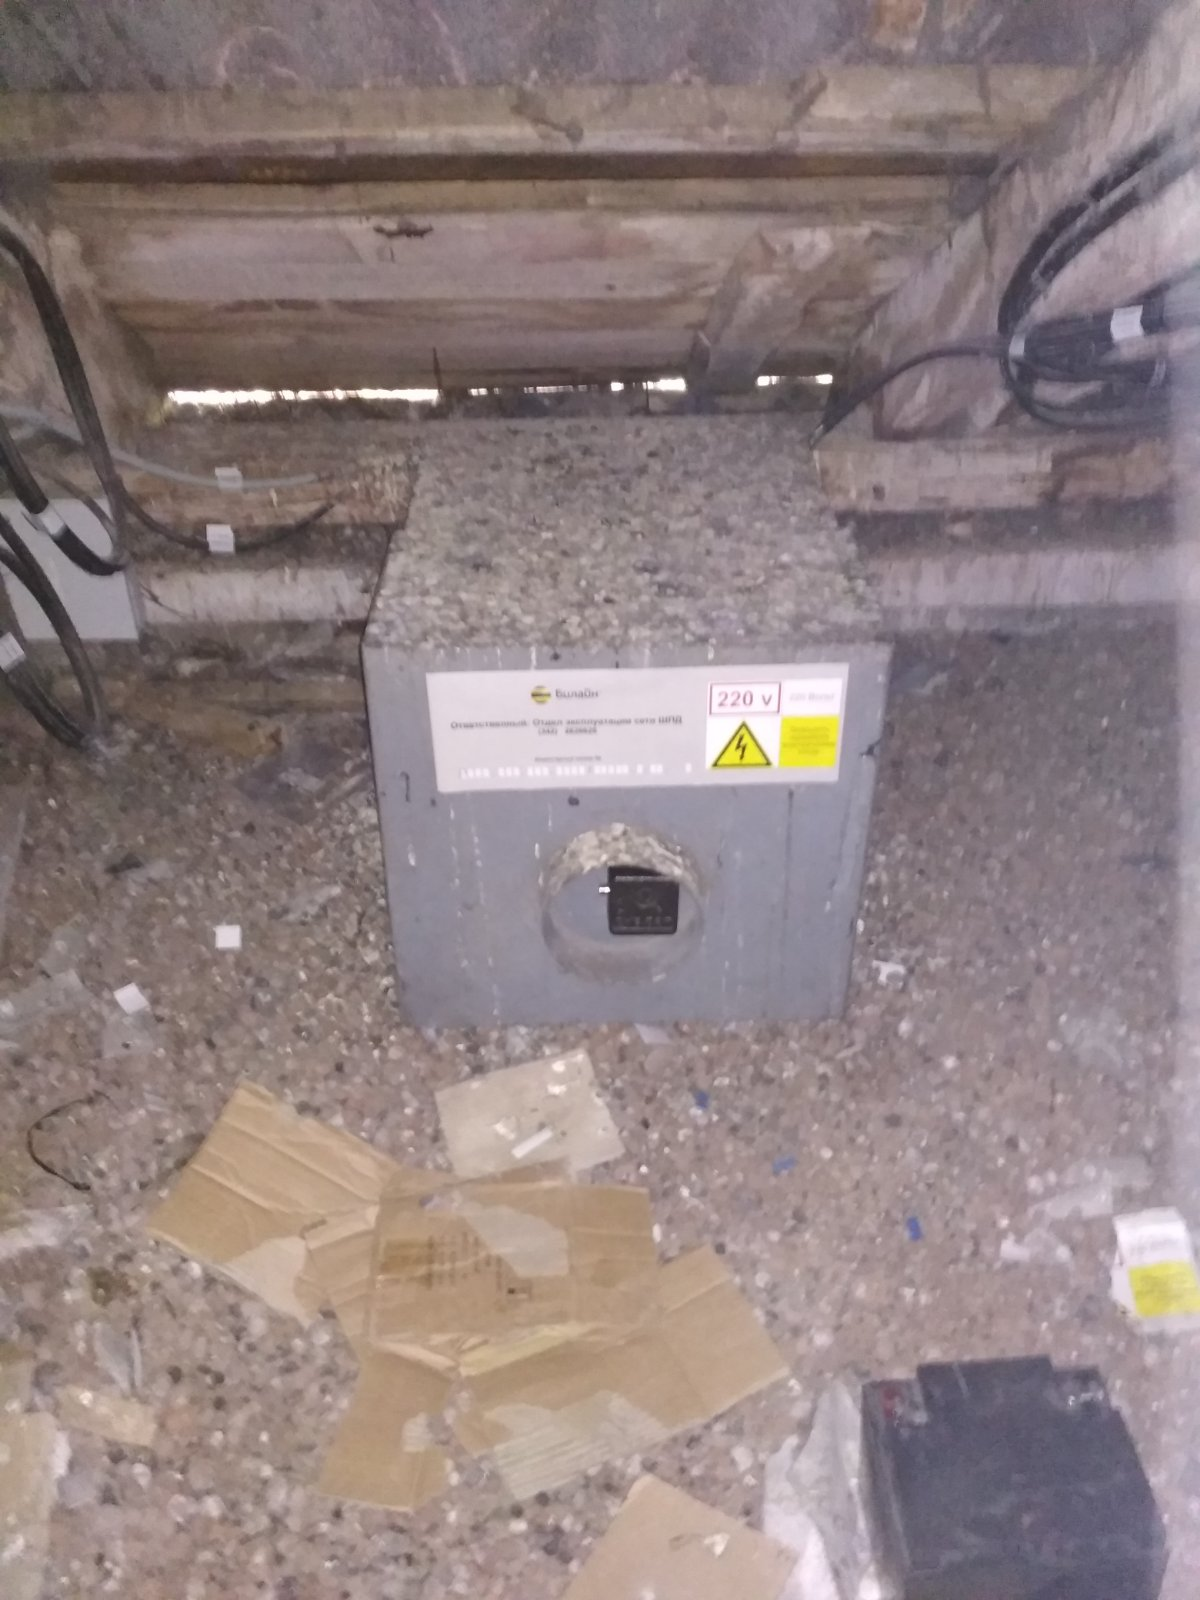shta-9: (352, 411, 899, 1048)
